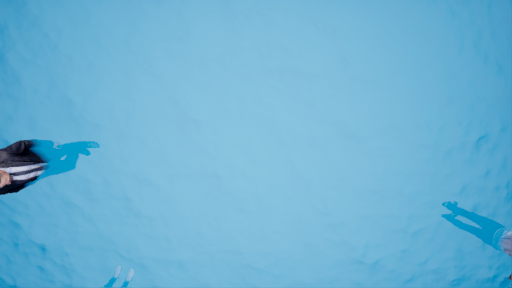person: (2, 138, 101, 202)
